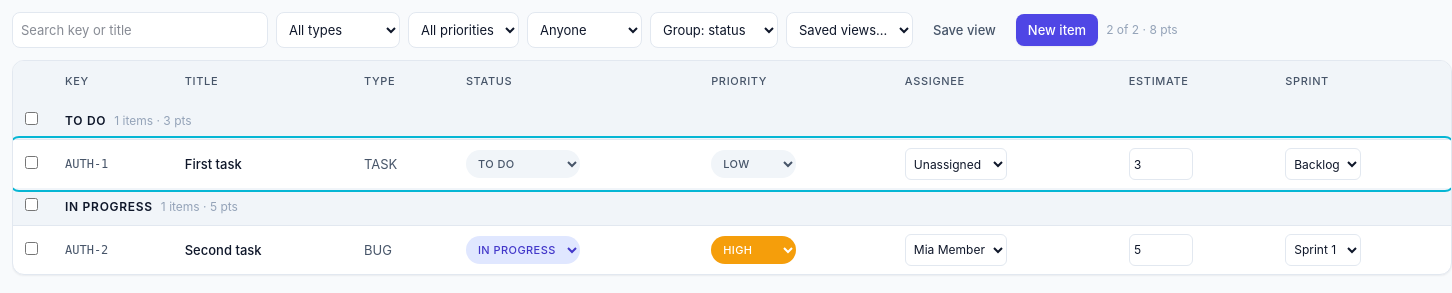
Scenario: BacklogClient › edits a title inline from the keyboard
Step 1. Press e in the row with test id "row-AUTH-1", box [13,140,1451,188]
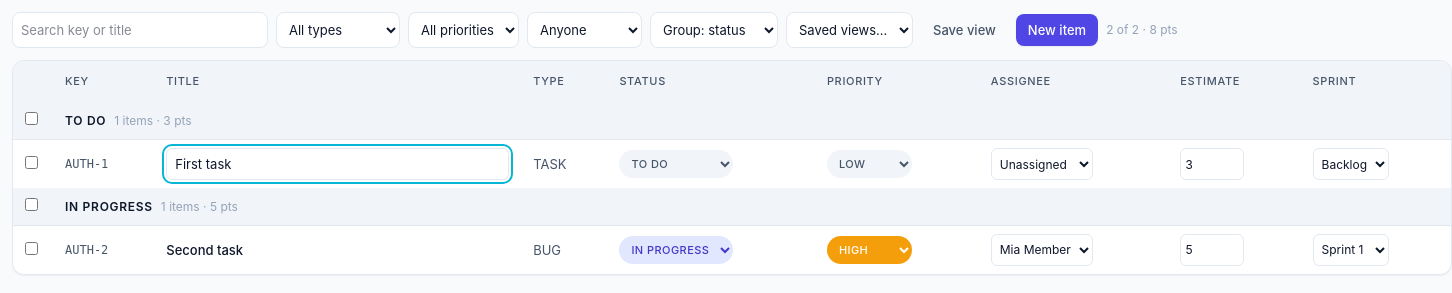
Step 2. Replace the text in the field named "Edit AUTH-1 title" with "Renamed task" → (338, 164), box [166,148,509,180]
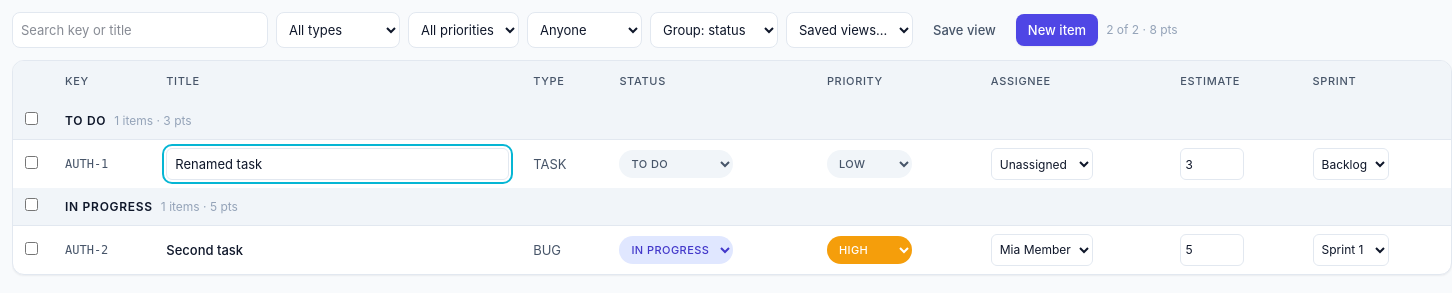
Step 3. Leave the field named "Edit AUTH-1 title", box [166,148,509,180]
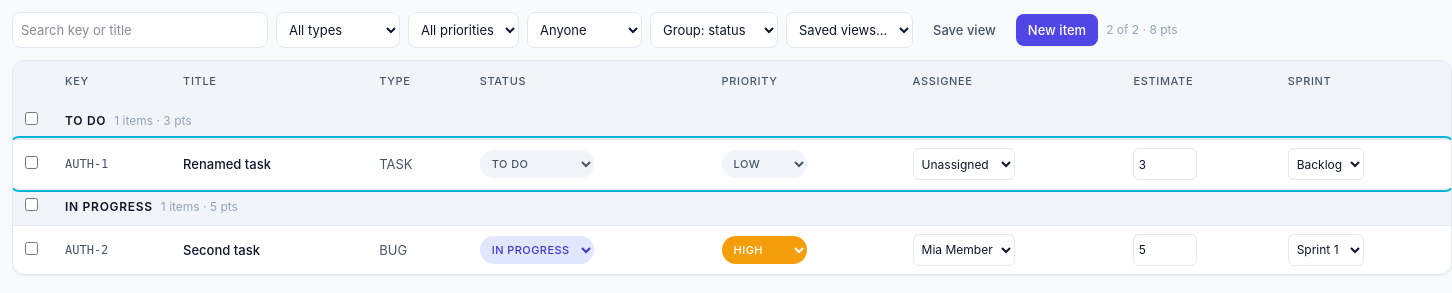
Check: the text "Renamed task" is shown, box [183,156,271,172]
